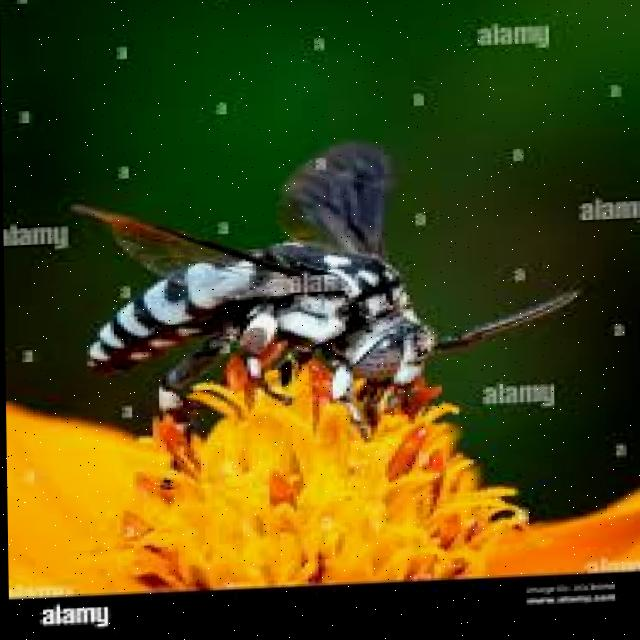Thyreus: (71, 134, 530, 451)
